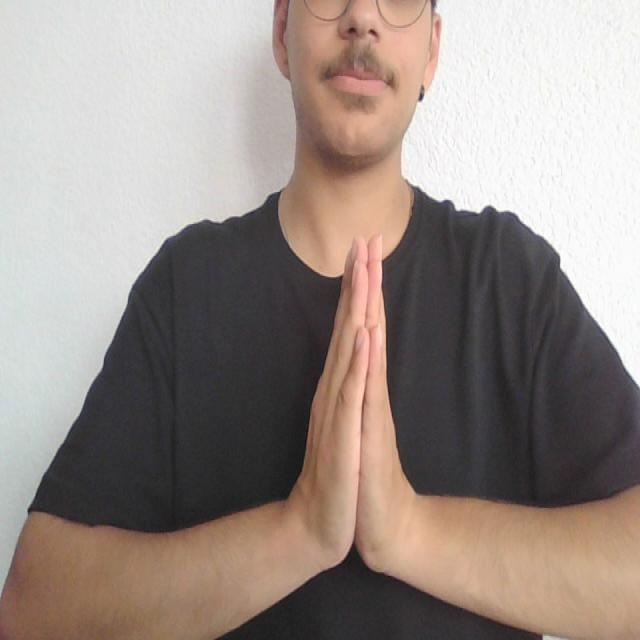Ozur-Dilemek: (296, 226, 423, 596)
